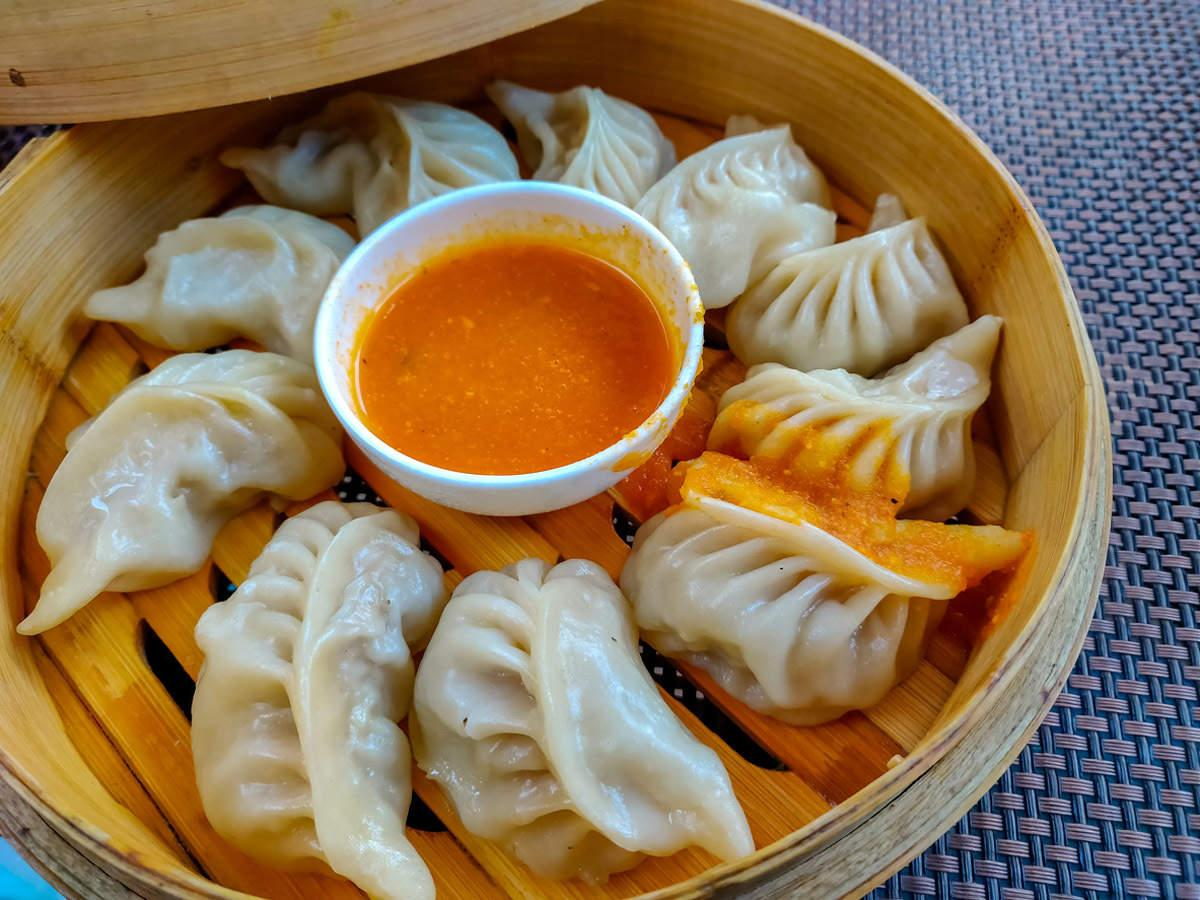momos: (410, 558, 755, 885), (192, 502, 445, 898), (682, 316, 1029, 599), (16, 349, 345, 635), (621, 506, 938, 724), (84, 206, 354, 361), (727, 218, 968, 376), (635, 124, 837, 306), (314, 94, 520, 236), (488, 80, 677, 207)
